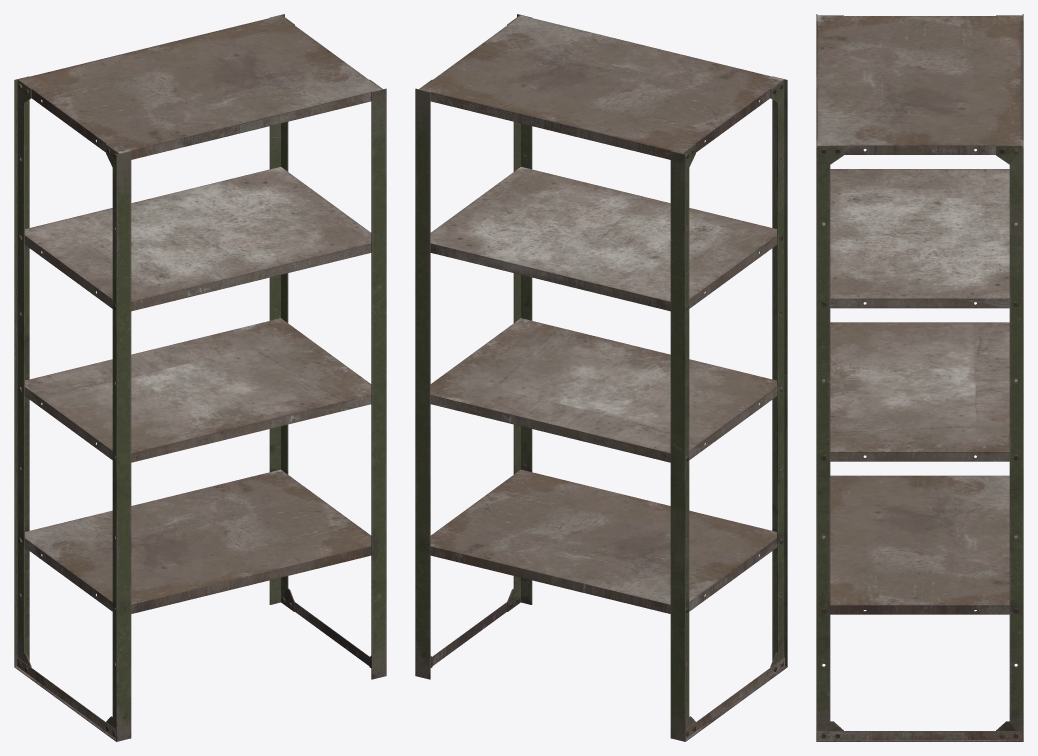
File: worn_metal_rack.glb
The picture shows the model from 3 angles, left to right: view 1: azimuth 30°, elevation 25°; view 2: azimuth 150°, elevation 25°; view 3: azimuth 270°, elevation 25°; orthographic projection.
Visible parts, largest first — view 1: worn_metal_rack; view 2: worn_metal_rack; view 3: worn_metal_rack.
Boxes of the visible parts, x1,y1,x2,y2 form: worn_metal_rack: (14,14,386,741); worn_metal_rack: (415,14,787,741); worn_metal_rack: (816,14,1023,741).
Size of the model in its own units: 0.9154 by 1.9 by 0.6.
1 material, 1 textured.
